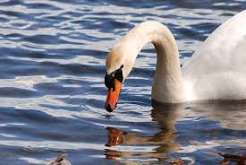swan: (101, 8, 246, 113)
